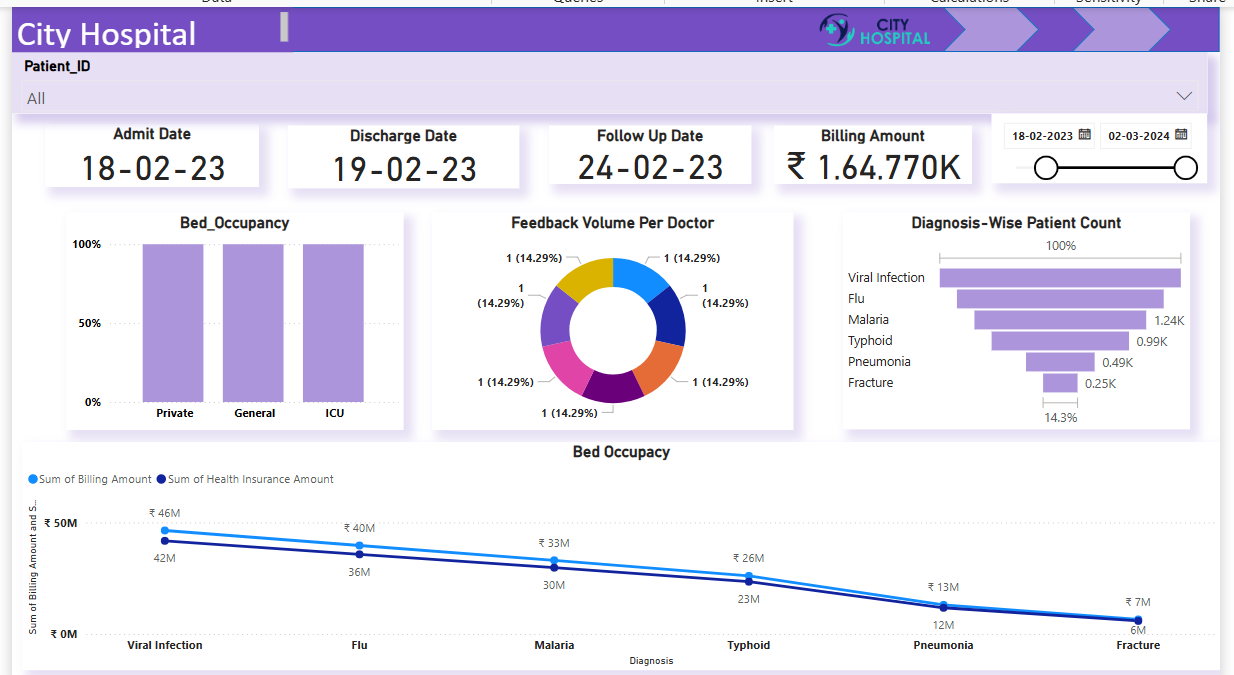

What the dashboard file says about the page in this screenshot:
{"tool":"powerbi","page":{"name":"Page 1","canvas":[1280,720],"ordinal":0},"visuals":[{"type":"card","title":"Admit Date","fields":{"Values":["Min(Sheet1.Admit_Date)"]},"box":[35,124.1,227.5,66.8],"z":0},{"type":"slicer","fields":{"Values":["Sheet1.Patient_ID"]},"box":[0,47.7,1267.7,65.2],"z":1000},{"type":"card","title":"Discharge Date","fields":{"Values":["Min(Sheet1.Discharge_Date)"]},"box":[292.2,125.7,245.3,66.6],"z":2000},{"type":"card","title":"Follow Up Date","fields":{"Values":["Min(Sheet1.Followup Date)"]},"box":[569.4,125.7,214.7,62],"z":3000},{"type":"card","title":"Billing Amount","fields":{"Values":["Sum(Sheet1.Billing Amount)"]},"box":[808,125.7,210,62],"z":4000},{"type":"hundredPercentStackedColumnChart","title":" Bed_Occupancy","fields":{"Category":["Sheet1.Bed_Occupancy"],"Y":["CountNonNull(Sheet1.Bed_Occupancy)"]},"box":[57.3,217.9,357.9,230.6],"z":5000},{"type":"donutChart","title":"Feedback Volume Per Doctor","fields":{"Category":["Sheet1.Doctor"],"Y":["Count(Sheet1.Doctor)"]},"box":[445.4,217.9,383.3,230.6],"z":6000},{"type":"funnel","title":"Diagnosis-Wise Patient Count","fields":{"Category":["Sheet1.Diagnosis"],"Y":["CountNonNull(Sheet1.Diagnosis)"]},"box":[881.3,218,368,230.2],"z":7000},{"type":"slicer","fields":{"Values":["Sheet1.Admit_Date"]},"box":[1038.7,113.6,228.6,74.2],"z":8000},{"type":"lineChart","title":"Bed Occupacy","fields":{"Y":["Sum(Sheet1.Billing Amount)","Sum(Sheet1.Health Insurance Amount)"],"Category":["Sheet1.Diagnosis"]},"box":[10.6,461.8,1270.4,242.3],"z":9000},{"type":"shape","box":[0,0,1280.4,47.7],"z":10000},{"type":"shape","box":[1123,0,106.6,47.7],"z":11000},{"type":"shape","box":[986.2,0,103.4,47.7],"z":12000},{"type":"textbox","box":[0,0,297.4,47.7],"z":13000},{"type":"image","box":[832.8,0,159,48.5],"z":14000}]}

Visuals, with their boxes on the page's 1280x720 design canvas (x1, y1, x2, y2). These are canvas units, not pixel positions in the 1234x675 screenshot, which may show the page scaled, cropped or inside an application window:
"Admit Date" card: rect(35, 124, 262, 191)
slicer - Sheet1.Patient_ID: rect(0, 48, 1268, 113)
"Discharge Date" card: rect(292, 126, 538, 192)
"Follow Up Date" card: rect(569, 126, 784, 188)
"Billing Amount" card: rect(808, 126, 1018, 188)
" Bed_Occupancy" hundredPercentStackedColumnChart: rect(57, 218, 415, 448)
"Feedback Volume Per Doctor" donutChart: rect(445, 218, 829, 448)
"Diagnosis-Wise Patient Count" funnel: rect(881, 218, 1249, 448)
slicer - Sheet1.Admit_Date: rect(1039, 114, 1267, 188)
"Bed Occupacy" lineChart: rect(11, 462, 1281, 704)
shape: rect(0, 0, 1280, 48)
shape: rect(1123, 0, 1230, 48)
shape: rect(986, 0, 1090, 48)
textbox: rect(0, 0, 297, 48)
image: rect(833, 0, 992, 48)
